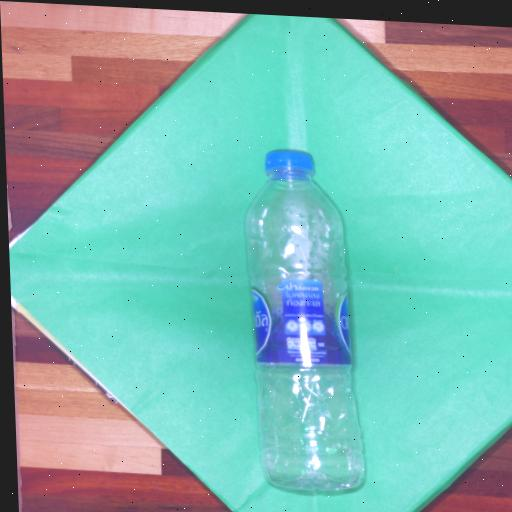bottle: (247, 150, 364, 489)
